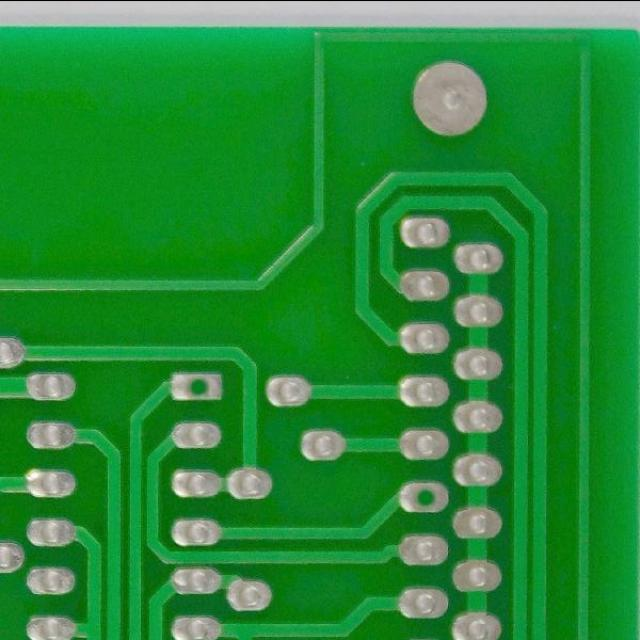Missing_Hole: (394, 476, 454, 516), (168, 367, 227, 405)
